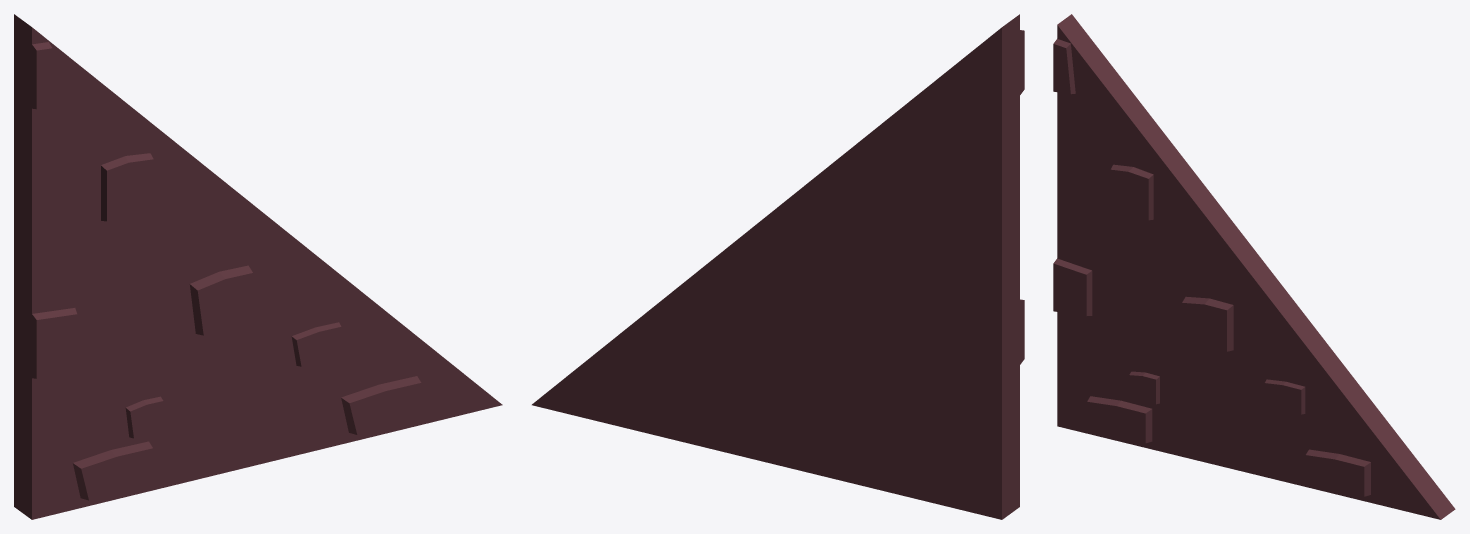
Rendered from SM_Stone_Wall_Verical_R_3x3_Moss_Rim_Empire.fbx.
3 views of the same model, side by side, from view 1: azimuth 30°, elevation 25°; view 2: azimuth 150°, elevation 25°; view 3: azimuth 330°, elevation 25° (orthographic). The views are drawn at different scales.
Visible parts, largest first — view 1: SM_Stone_Wall_Verical_R_3x3_Moss_Rim_Empire; view 2: SM_Stone_Wall_Verical_R_3x3_Moss_Rim_Empire; view 3: SM_Stone_Wall_Verical_R_3x3_Moss_Rim_Empire.
Boxes of the visible parts, x1,y1,x2,y2 form: SM_Stone_Wall_Verical_R_3x3_Moss_Rim_Empire: (14, 14, 502, 519); SM_Stone_Wall_Verical_R_3x3_Moss_Rim_Empire: (532, 14, 1024, 519); SM_Stone_Wall_Verical_R_3x3_Moss_Rim_Empire: (1053, 14, 1455, 519).
Bounding box in the file's own units: 3 × 3 × 0.2676.
